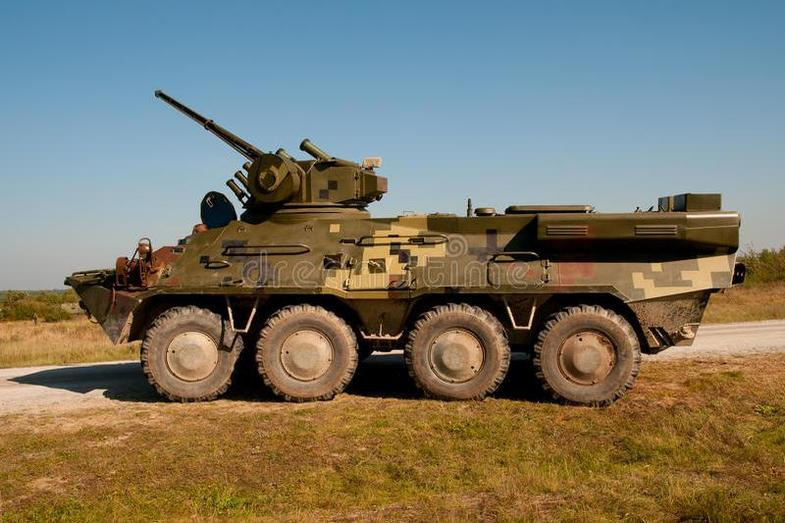btr: (68, 181, 742, 393)
